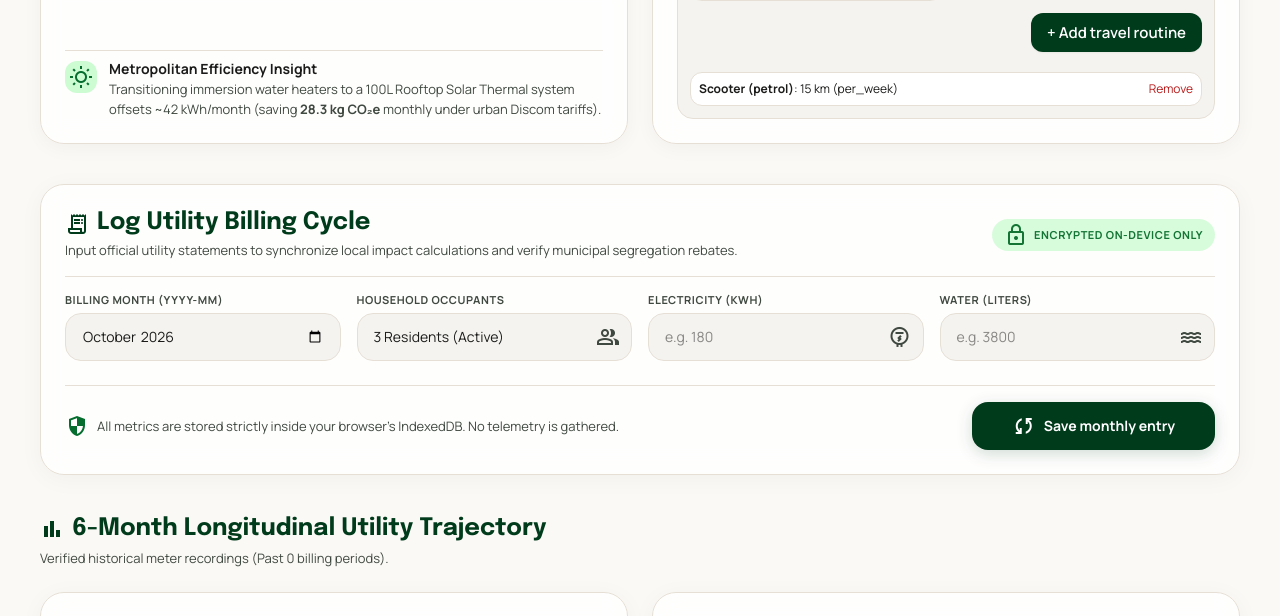
Test: FootprintScreen Component & Accessibility › logs monthly utility records and displays baseline comparison against own previous month
(page scrolled)
Replace the text in the field labelled "Billing month (YYYY-MM)" with "2026-01" at (203, 337), box [65, 313, 340, 361]
Type "100" into the number field labelled "Electricity (kWh)" at (786, 337), box [648, 313, 924, 361]
Type "3000" into the number field labelled "Water (liters)" at (1077, 337), box [940, 313, 1215, 361]
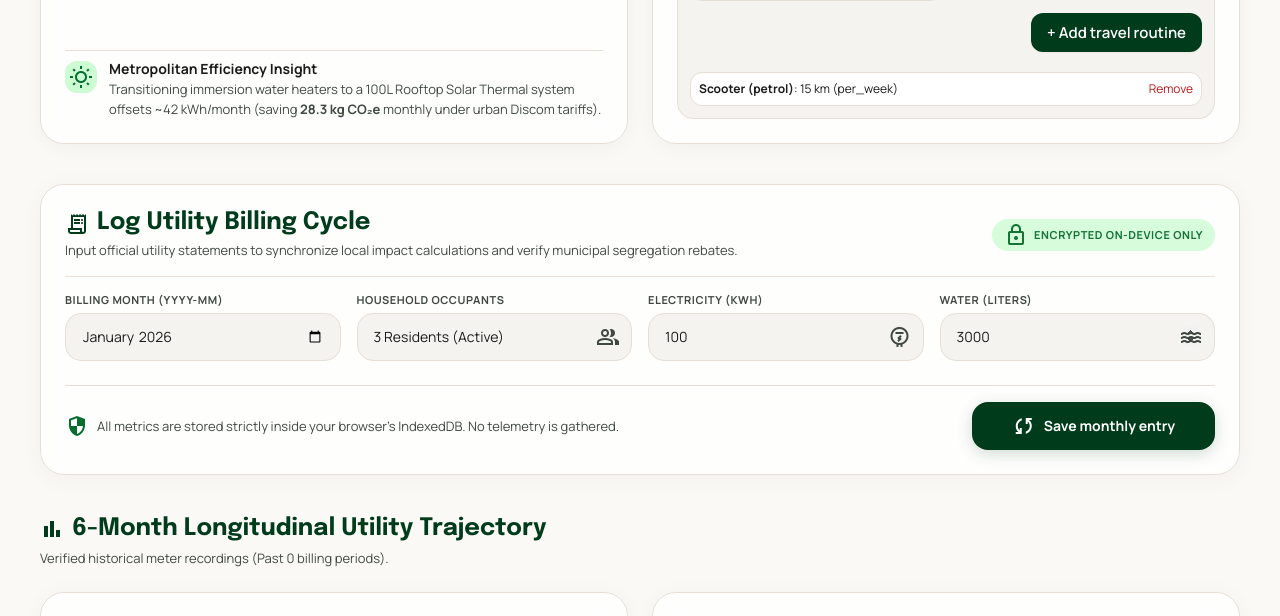
Click the button "Save monthly entry" at (1093, 426), box [972, 402, 1215, 450]
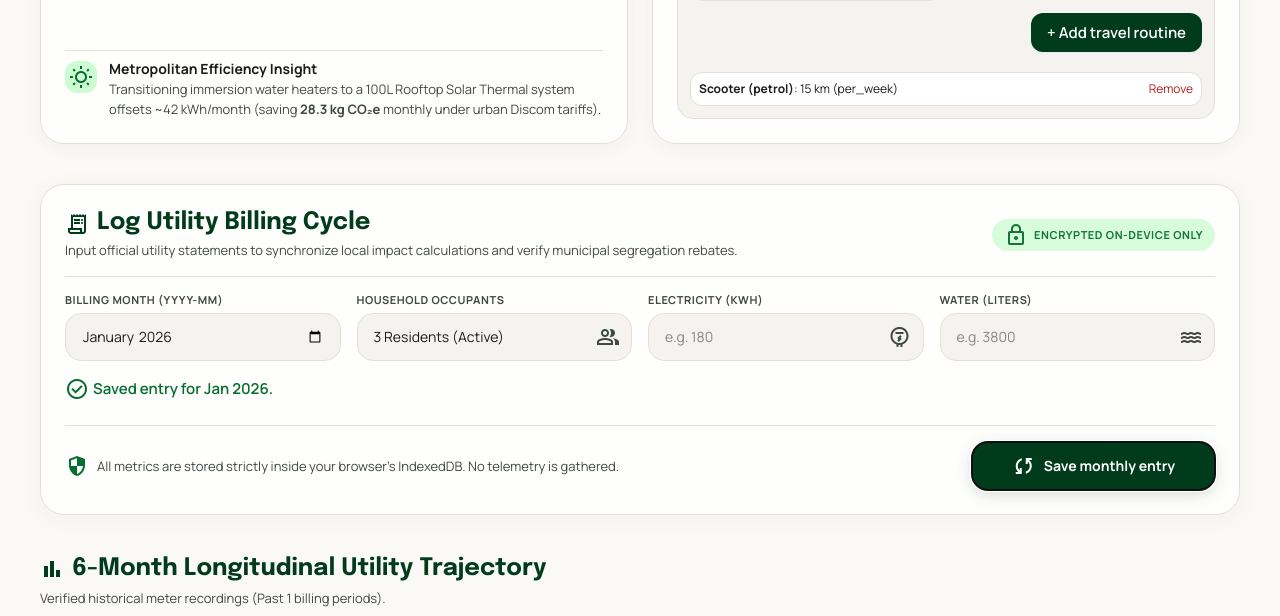
Replace the text in the field labelled "Billing month (YYYY-MM)" with "2026-02" at (203, 337), box [65, 313, 340, 361]
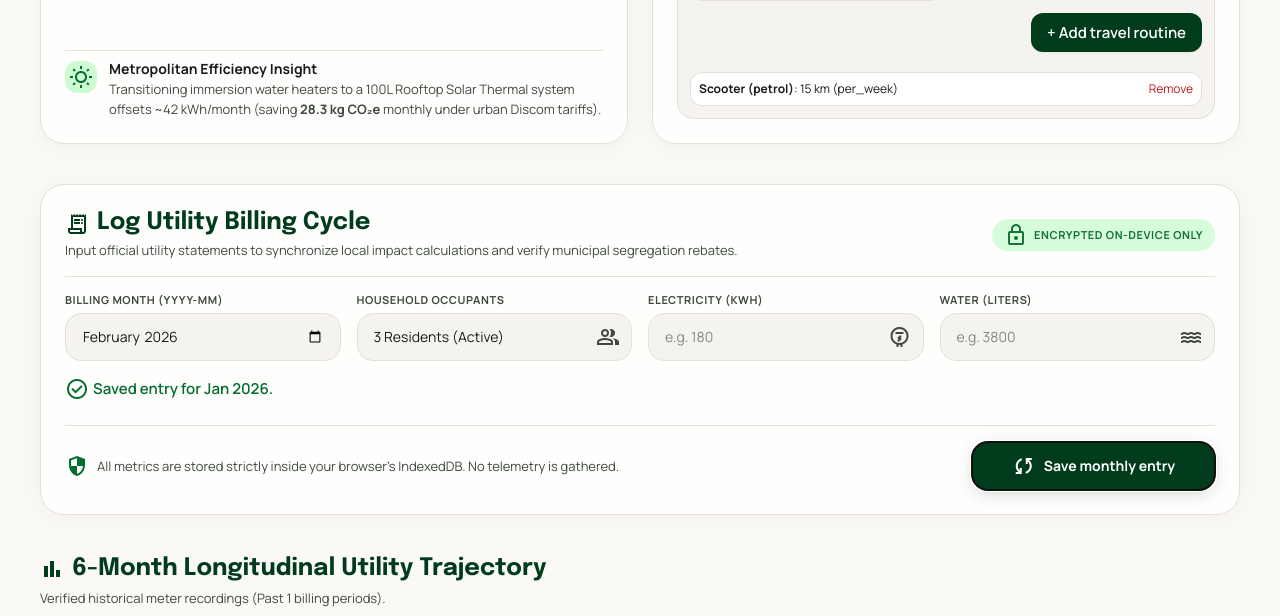
Type "120" into the number field labelled "Electricity (kWh)" at (786, 337), box [648, 313, 924, 361]
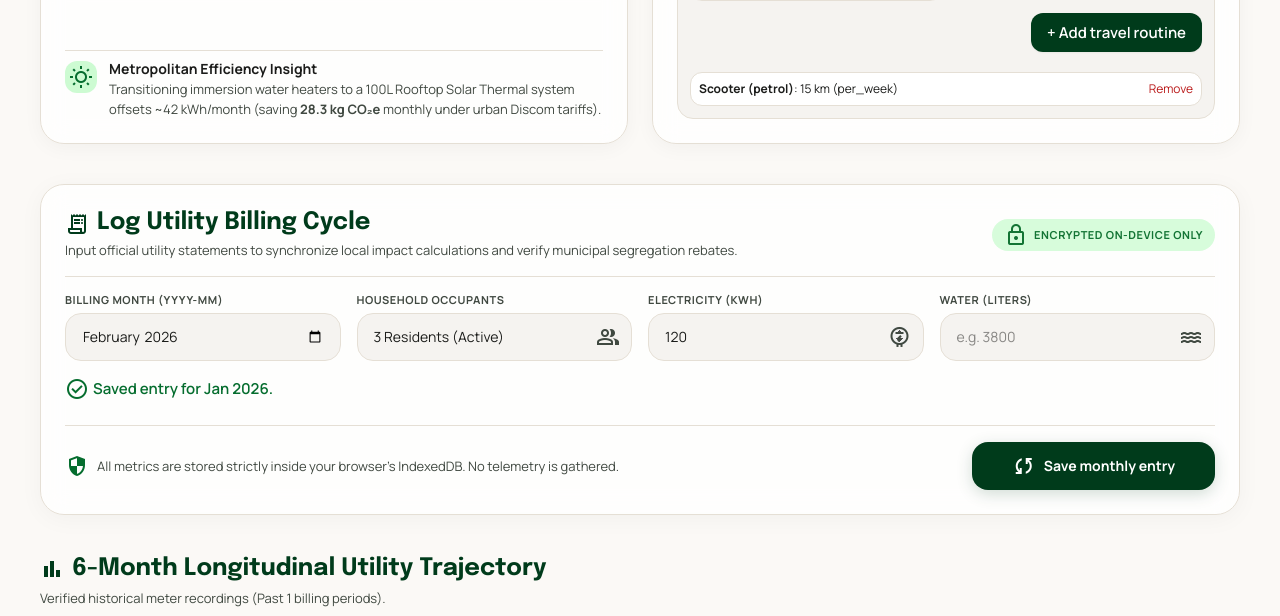
Type "2700" into the number field labelled "Water (liters)" at (1077, 337), box [940, 313, 1215, 361]
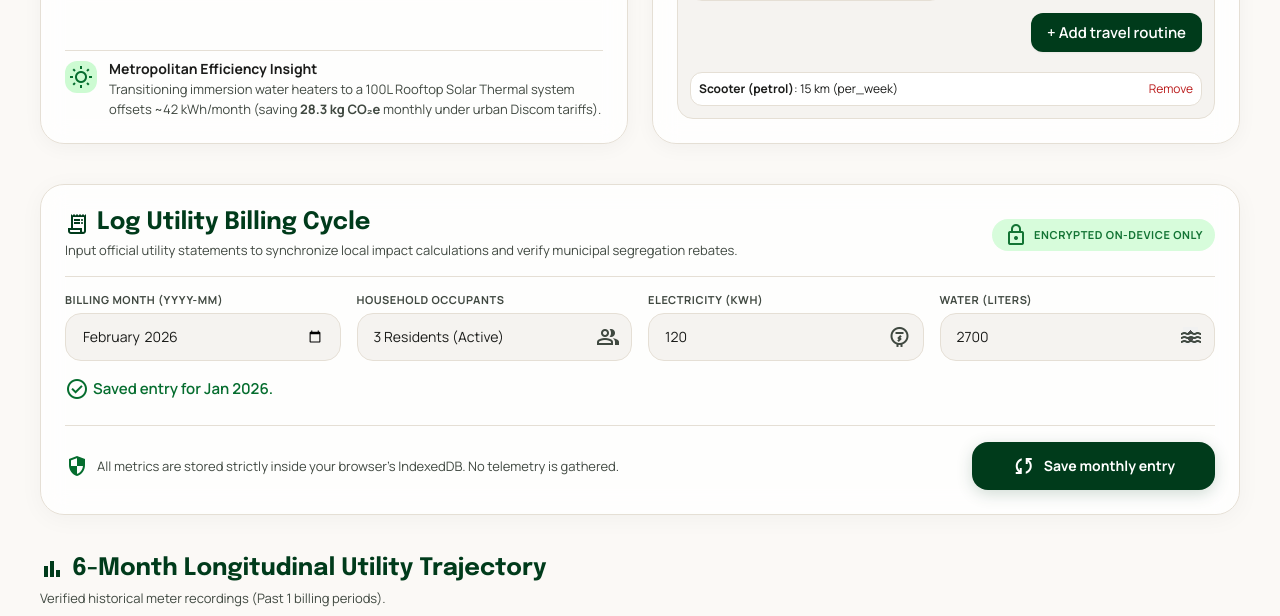
Click the button "Save monthly entry" at (1093, 466), box [972, 442, 1215, 490]
(page scrolled)
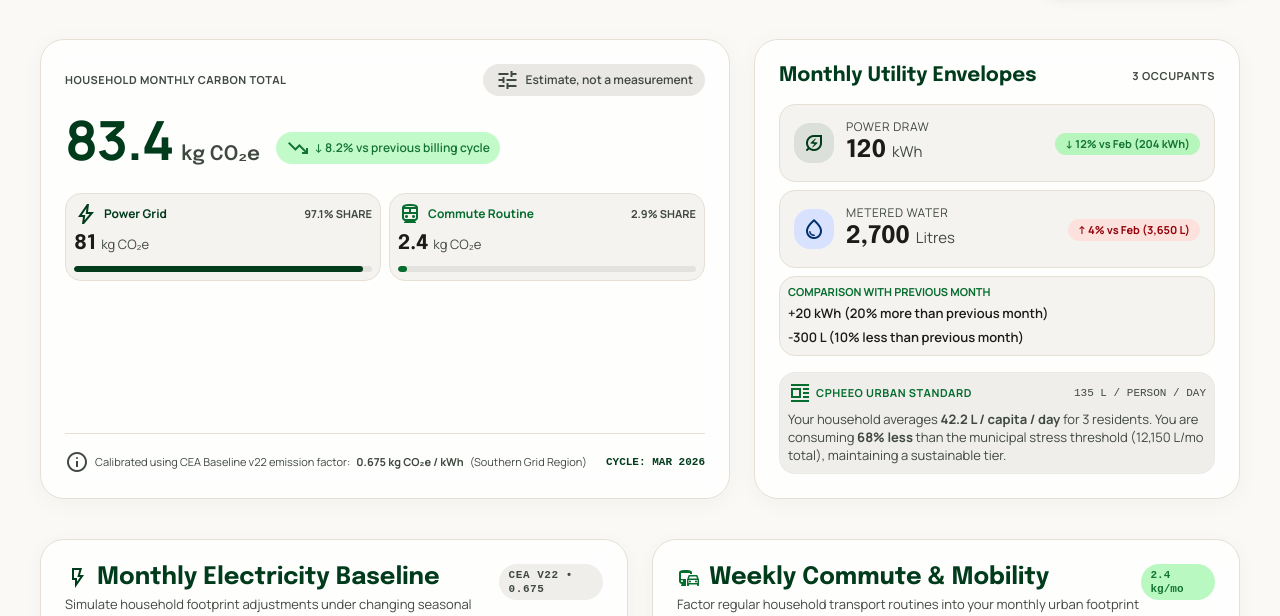
Expected: the text "+20 kWh (20% more than previous month)" is shown, [788, 304, 1049, 322]
Expected: the text "-300 L (10% less than previous month)" is shown, [788, 328, 1024, 346]
